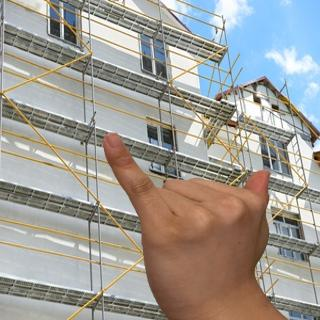HAVE: (93, 120, 285, 312)
